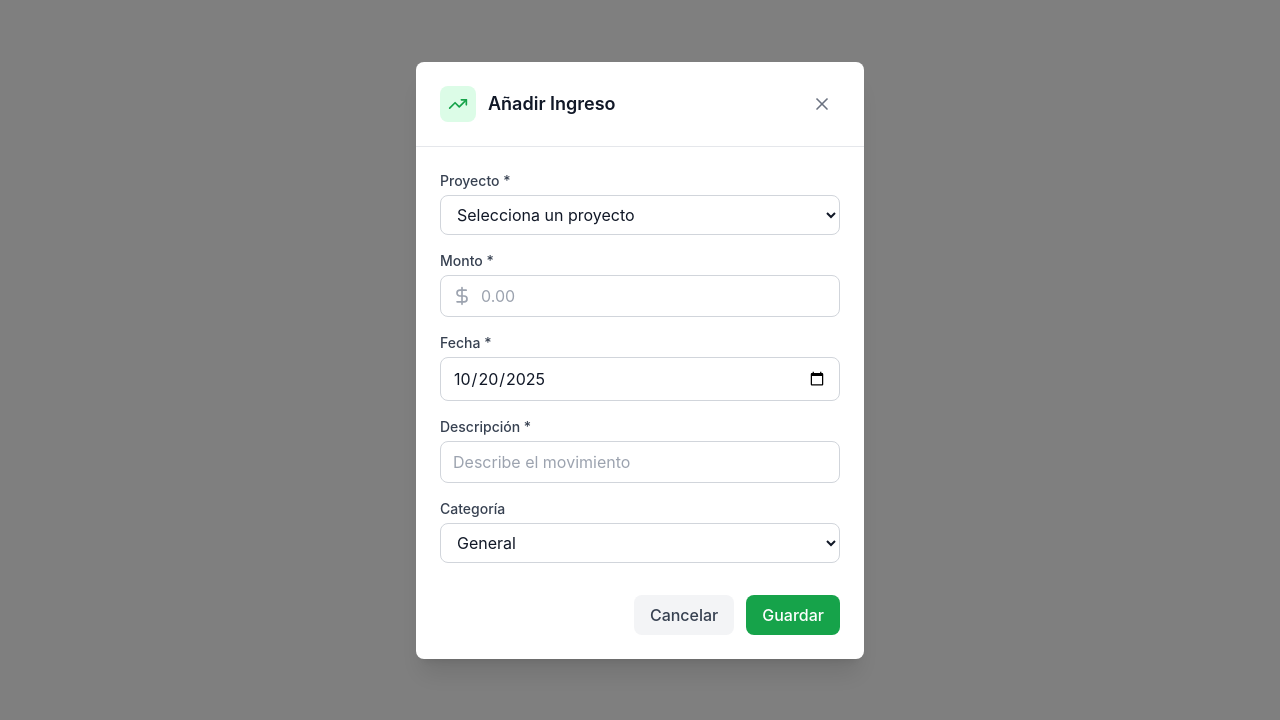
Scenario: FinanceModal › Form Submission › should disable buttons during submission
Fill form
Select "Proyecto Alpha" in the dropdown labelled "Proyecto *". click: (640, 214)
box: [440, 194, 840, 234]
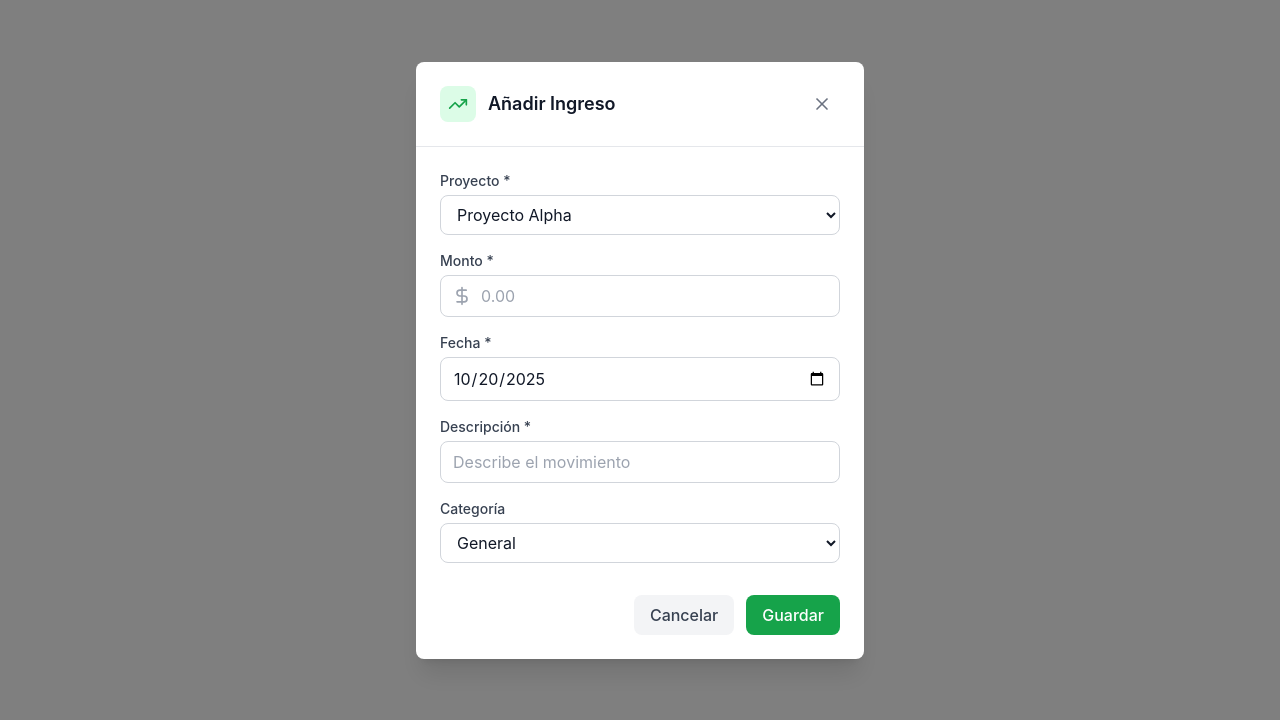
Type "5000" into the field labelled "Monto *". click: (640, 296)
box: [440, 274, 840, 316]
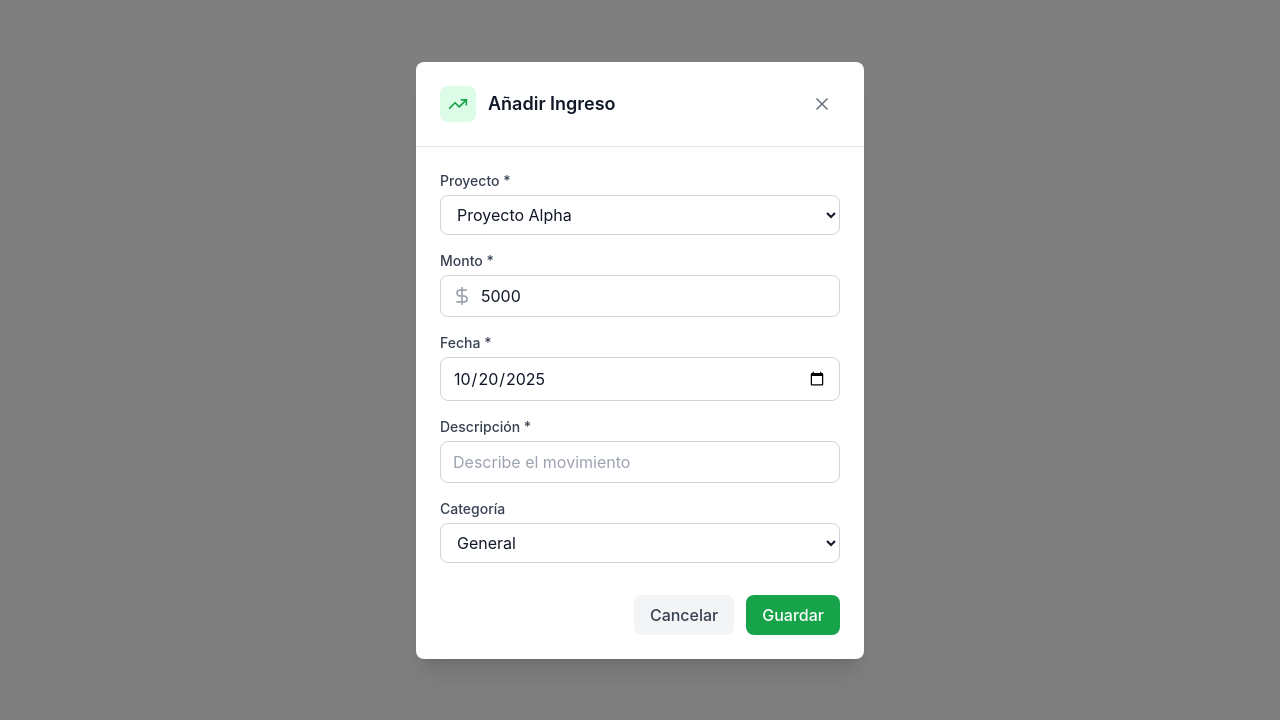
Type "Test" into the field labelled "Descripción *". click: (640, 462)
box: [440, 440, 840, 482]
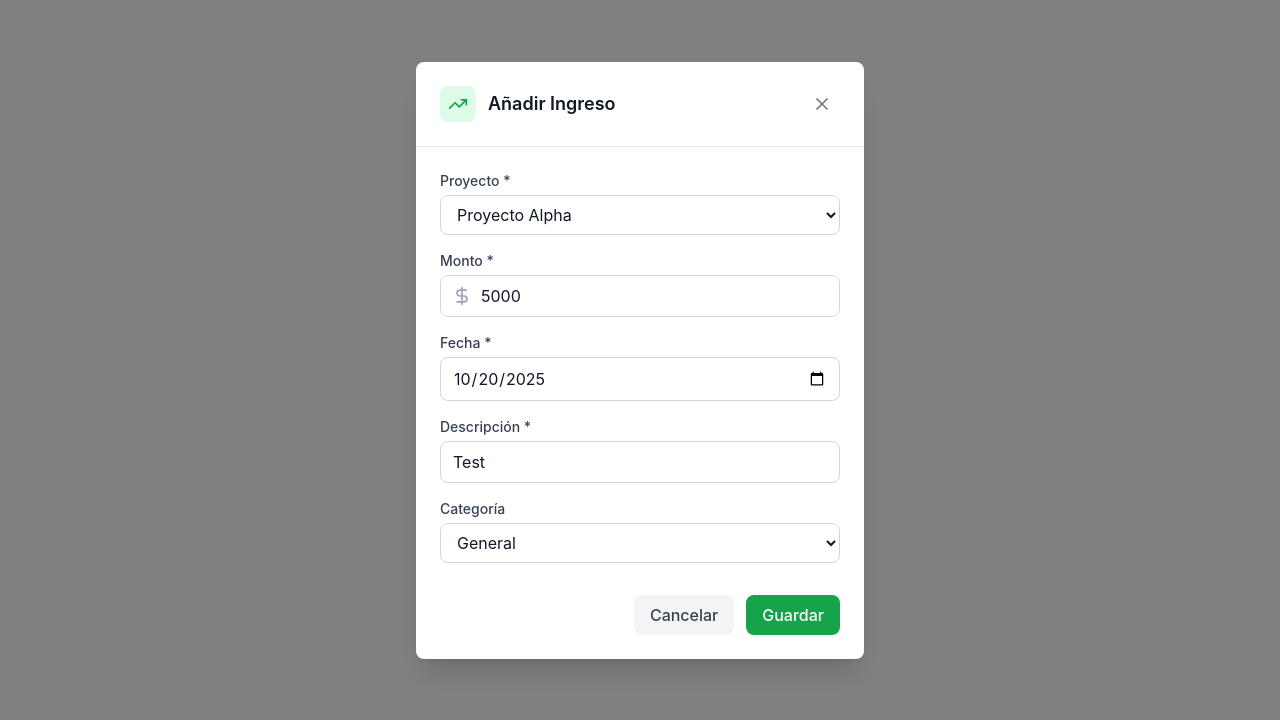
Click the button "Guardar". click: (793, 614)
box: [746, 594, 840, 634]
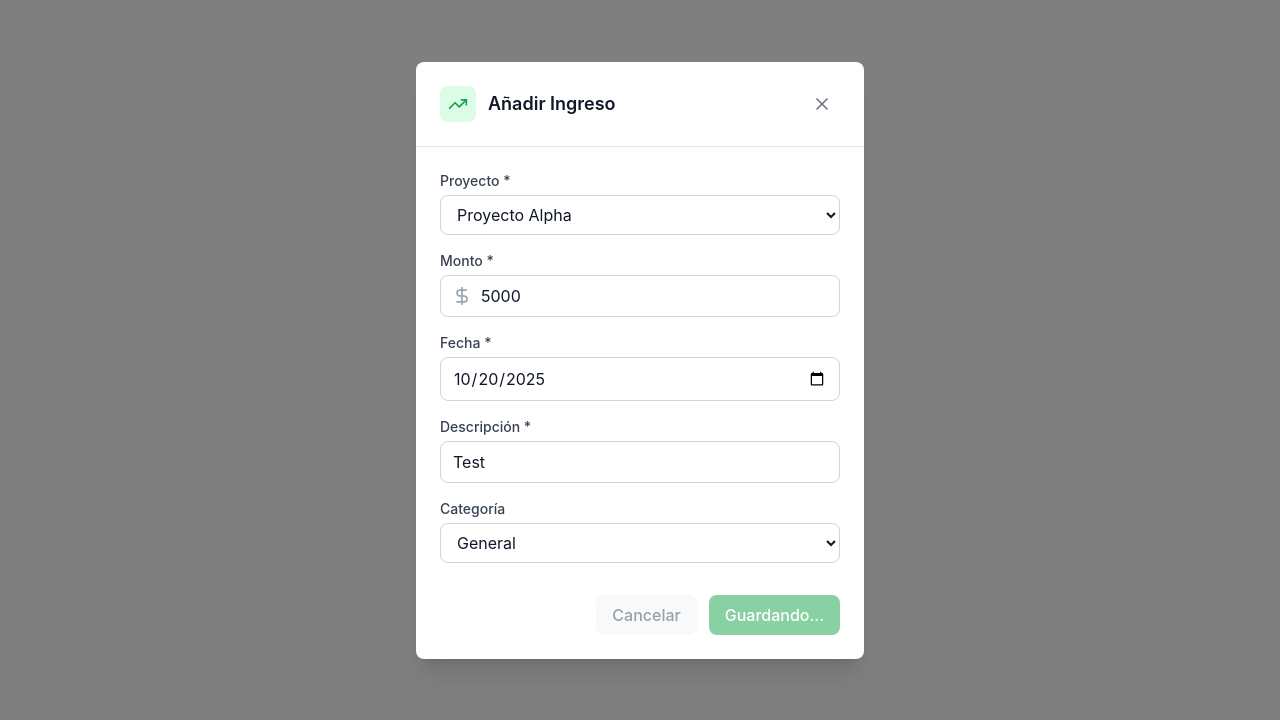
Expected: the button named "guardar" is disabled, [709, 594, 840, 634]
Expected: the button "Cancelar" is disabled, [596, 594, 697, 634]
